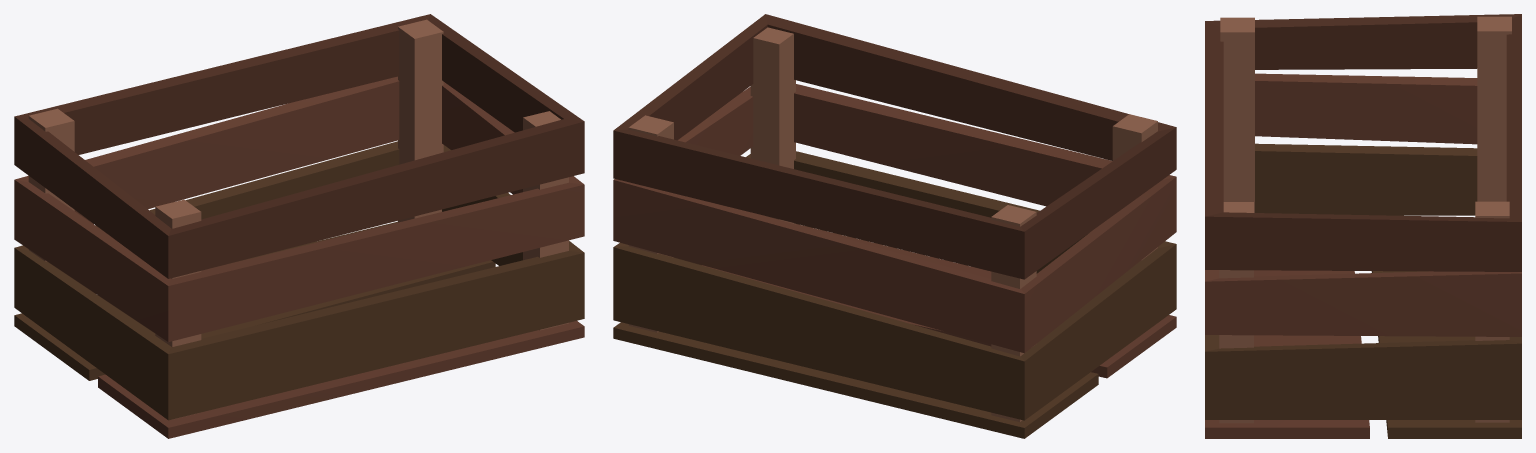
The model's file is Drawer 1.glb.
The picture shows the model from 3 angles, left to right: view 1: azimuth 30°, elevation 25°; view 2: azimuth 150°, elevation 25°; view 3: azimuth 270°, elevation 25°; orthographic projection. The views are drawn at different scales.
Parts seen in each view (by area): view 1: Drawer 1; view 2: Drawer 1; view 3: Drawer 1.
Part boxes in pixels (x1,y1,x2,y2): Drawer 1: (14,14,584,438); Drawer 1: (613,14,1176,438); Drawer 1: (1205,14,1521,438).
Size of what is drawn, in the model's own units: 0.72 by 0.357 by 0.4614.
Materials: 1 (1 with a texture image).
